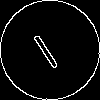I: (25, 25, 62, 71)
